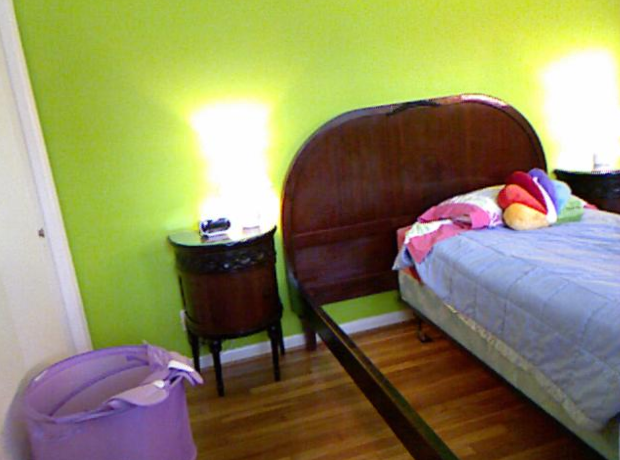table: (168, 221, 287, 385)
